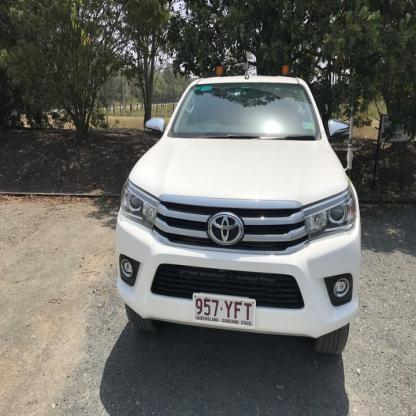light_vehicle: (110, 51, 363, 366)
